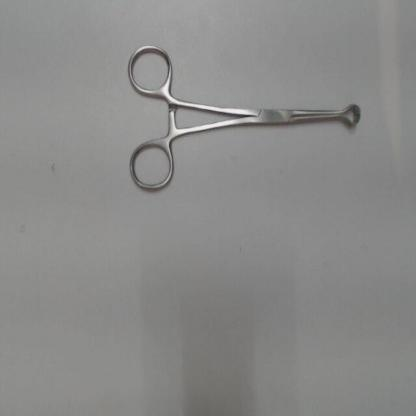Babcock Tissue Forceps: (125, 40, 364, 197)
